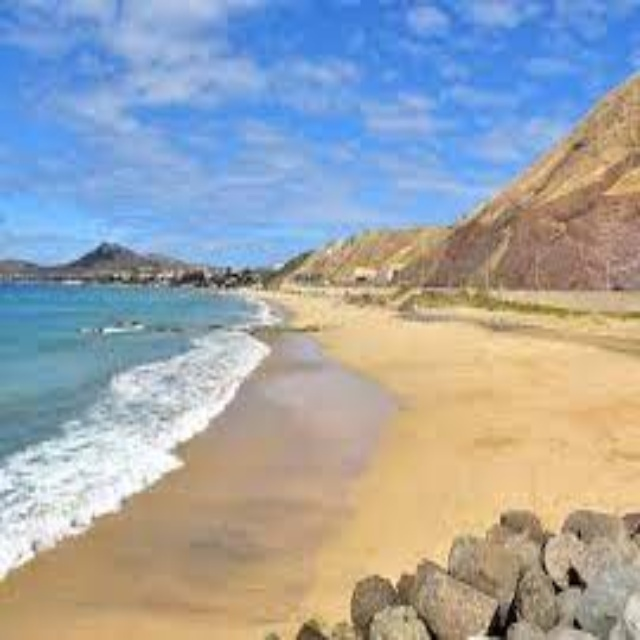linhaEspraiamento: (25, 329, 398, 576), (180, 292, 367, 377)
